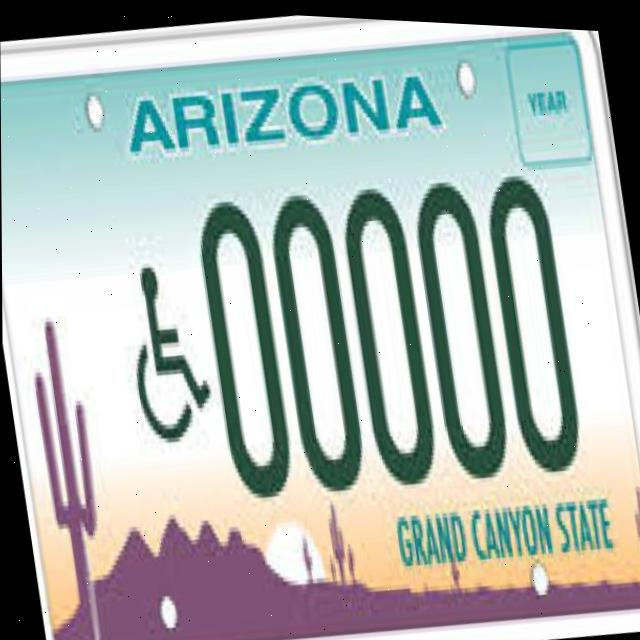symbol_of_access: (117, 254, 218, 449)
